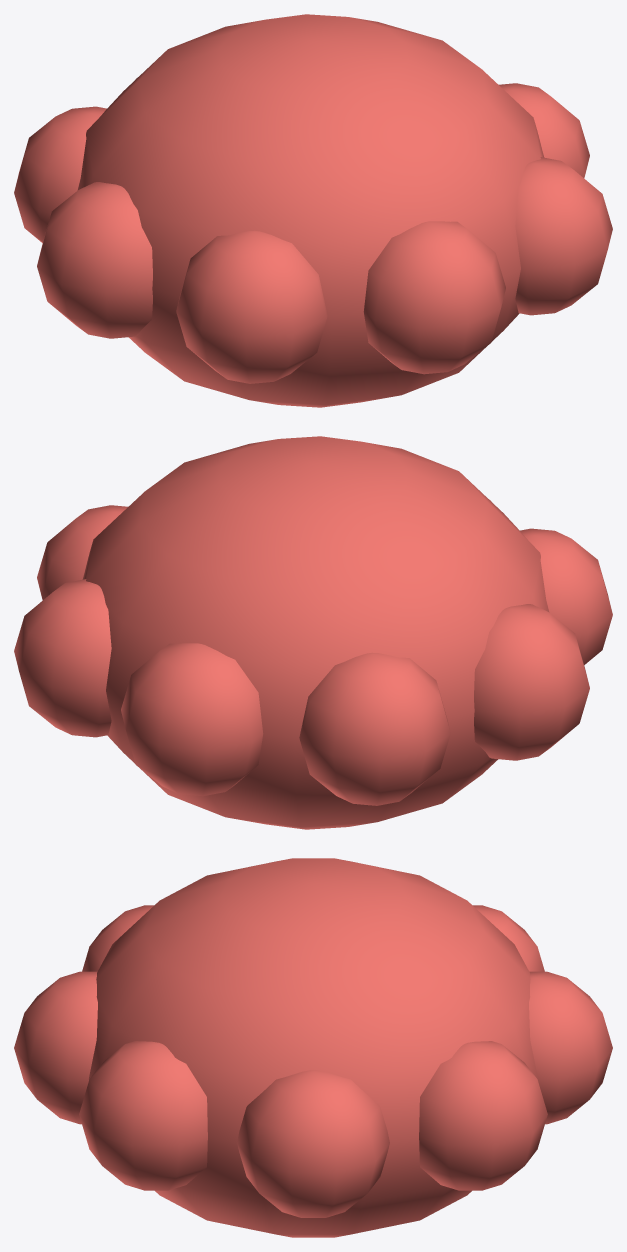
Rendered from opera_candymaker_candy_0.glb.
The picture shows the model from 3 angles, top to bottom: view 1: azimuth 30°, elevation 25°; view 2: azimuth 150°, elevation 25°; view 3: azimuth 270°, elevation 25°; orthographic projection. The views are drawn at different scales.
Visible parts, largest first — view 1: VisualMesh.001; view 2: VisualMesh.001; view 3: VisualMesh.001.
Part boxes in pixels (x1,y1,x2,y2): VisualMesh.001: (14, 14, 612, 407); VisualMesh.001: (14, 436, 612, 829); VisualMesh.001: (14, 858, 612, 1237).
Size of the model in its own units: 3.06 by 1.88 by 3.1.
